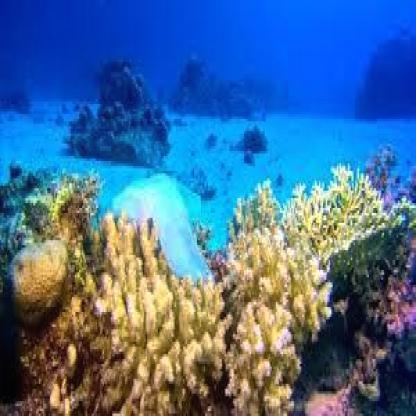pbag: (111, 171, 212, 285)
